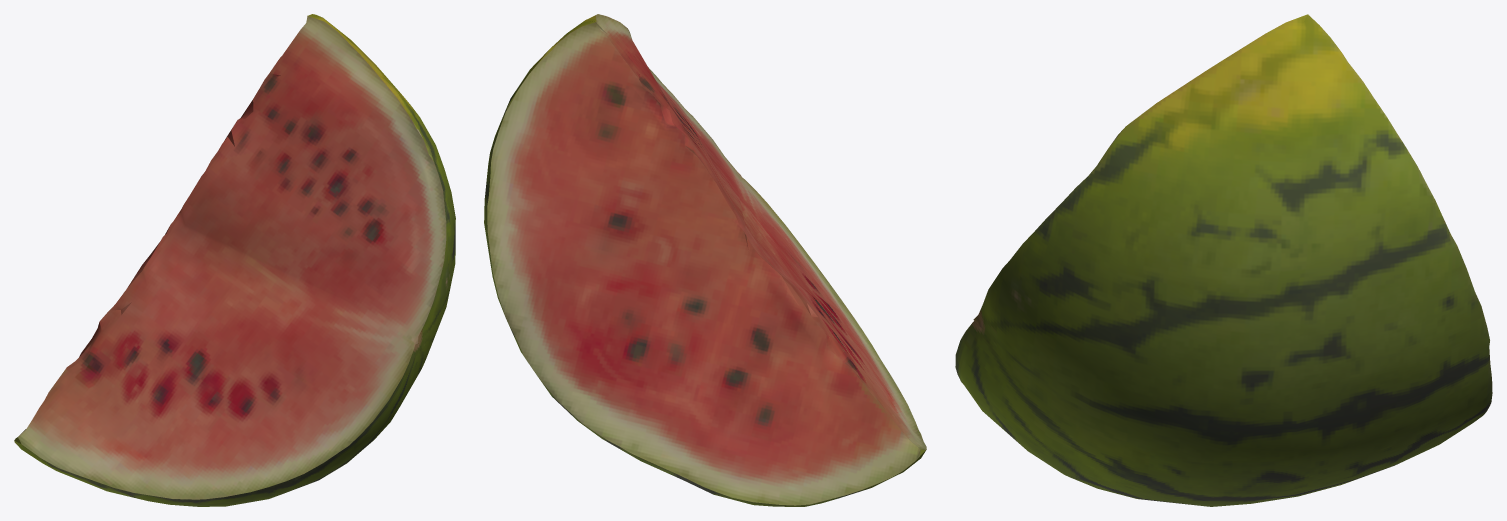
The model's file is ref_watermelonslice.fbx.
3 views of the same model, side by side, from view 1: azimuth 30°, elevation 25°; view 2: azimuth 150°, elevation 25°; view 3: azimuth 270°, elevation 25° (orthographic). The views are drawn at different scales.
Visible parts, largest first — view 1: ref_watermelonslice; view 2: ref_watermelonslice; view 3: ref_watermelonslice.
Part boxes in pixels (box(x1,y1,x2,y2)): ref_watermelonslice: box(14, 14, 455, 506); ref_watermelonslice: box(484, 14, 926, 506); ref_watermelonslice: box(955, 14, 1492, 506).
Size of the model in its own units: 98.61 by 100 by 87.06.
Materials: 1 (1 with a texture image).
